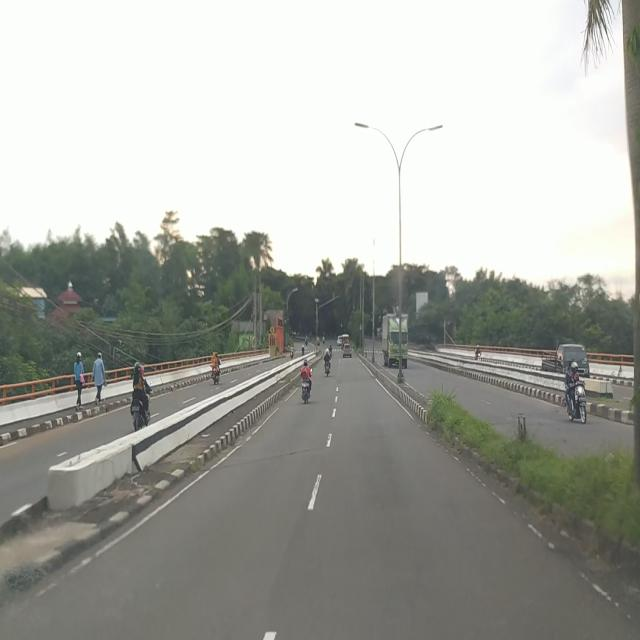Sewer Cover: (217, 443, 341, 467), (301, 425, 373, 429)
